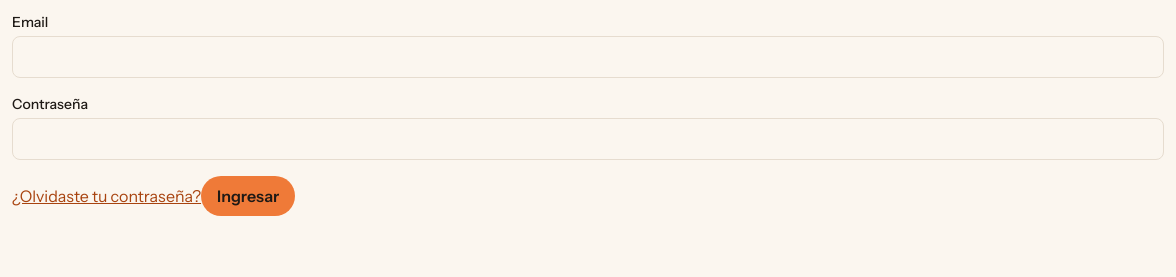
Test: LoginForm › muestra el error del backend y lo borra al volver a escribir
This screenshot has width=1176, height=277.
Type "valentina@latinzumi.test" into the field labelled "Email" at (588, 57), box [12, 36, 1164, 78]
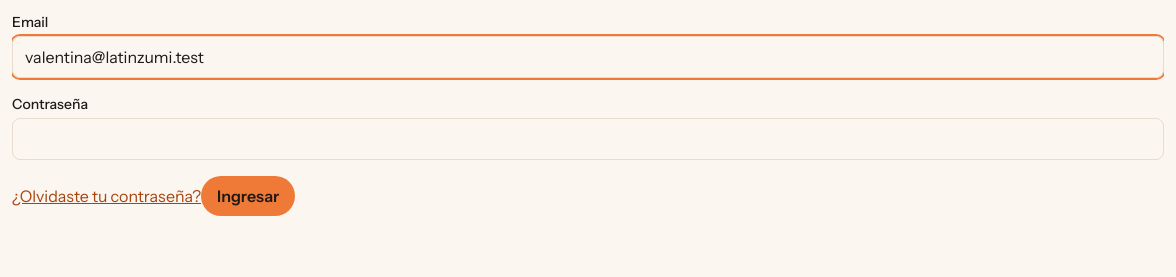
Type "otra" into the password field labelled "Contraseña" at (588, 139), box [12, 118, 1164, 160]
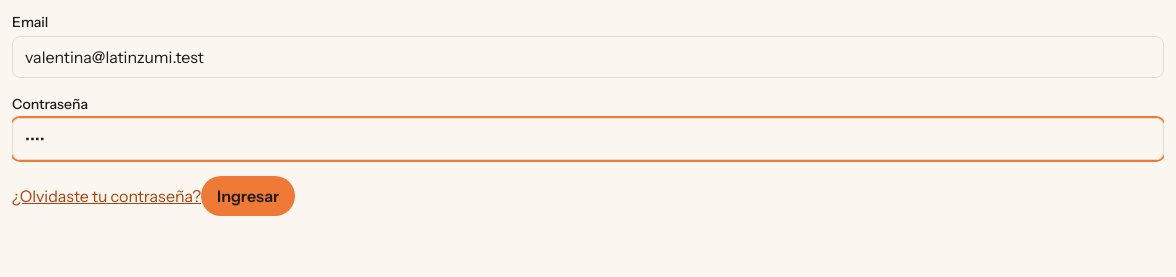
Click the button "Ingresar" at (248, 196), box [201, 176, 295, 216]
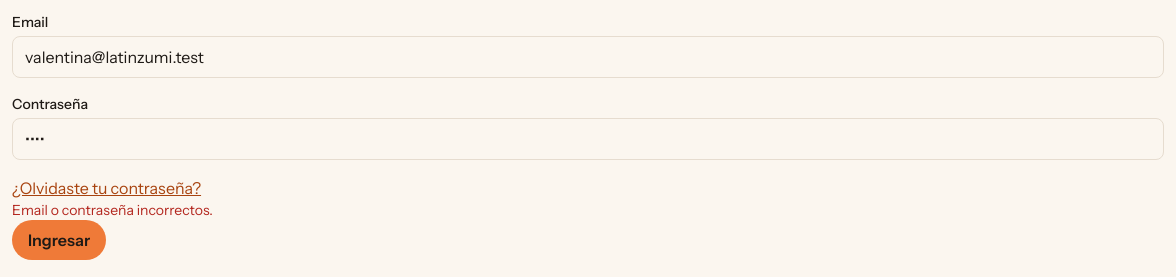
Expected: the message reads "Email o contraseña incorrectos.", [12, 201, 213, 219]
Type "x" into the password field labelled "Contraseña" at (588, 139), box [12, 118, 1164, 160]
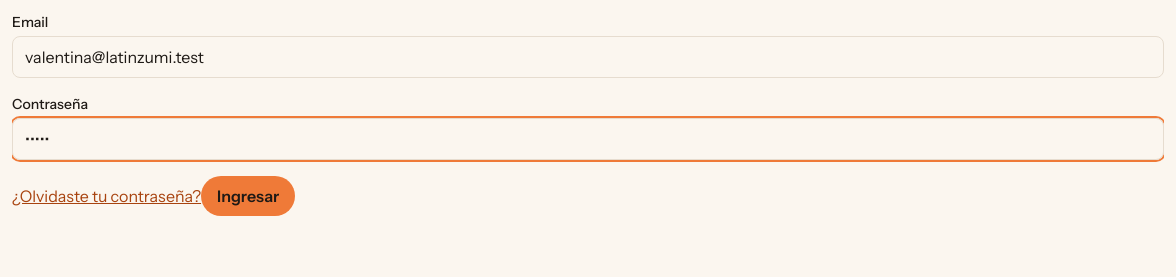
Expected: the message "Email o contraseña incorrectos." is gone
